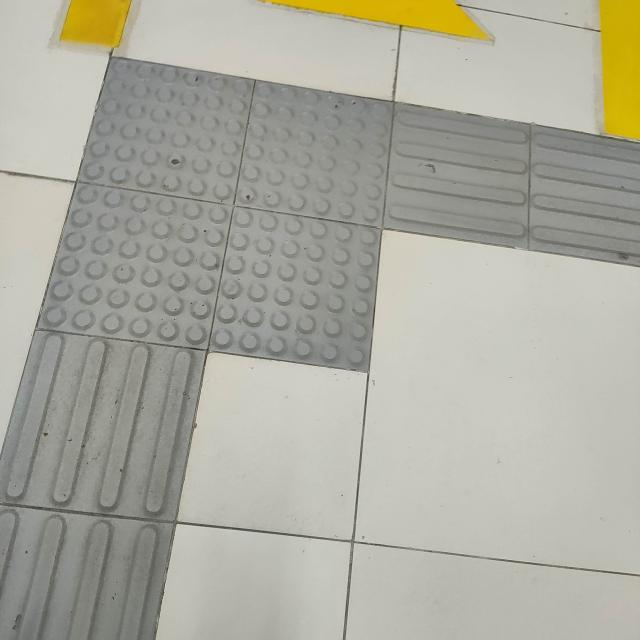kanan: (20, 31, 640, 428)
